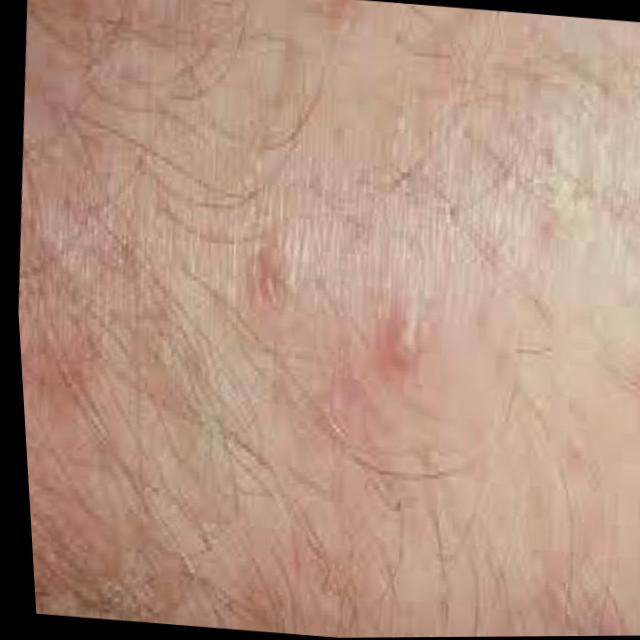Acne: (188, 226, 640, 639)
